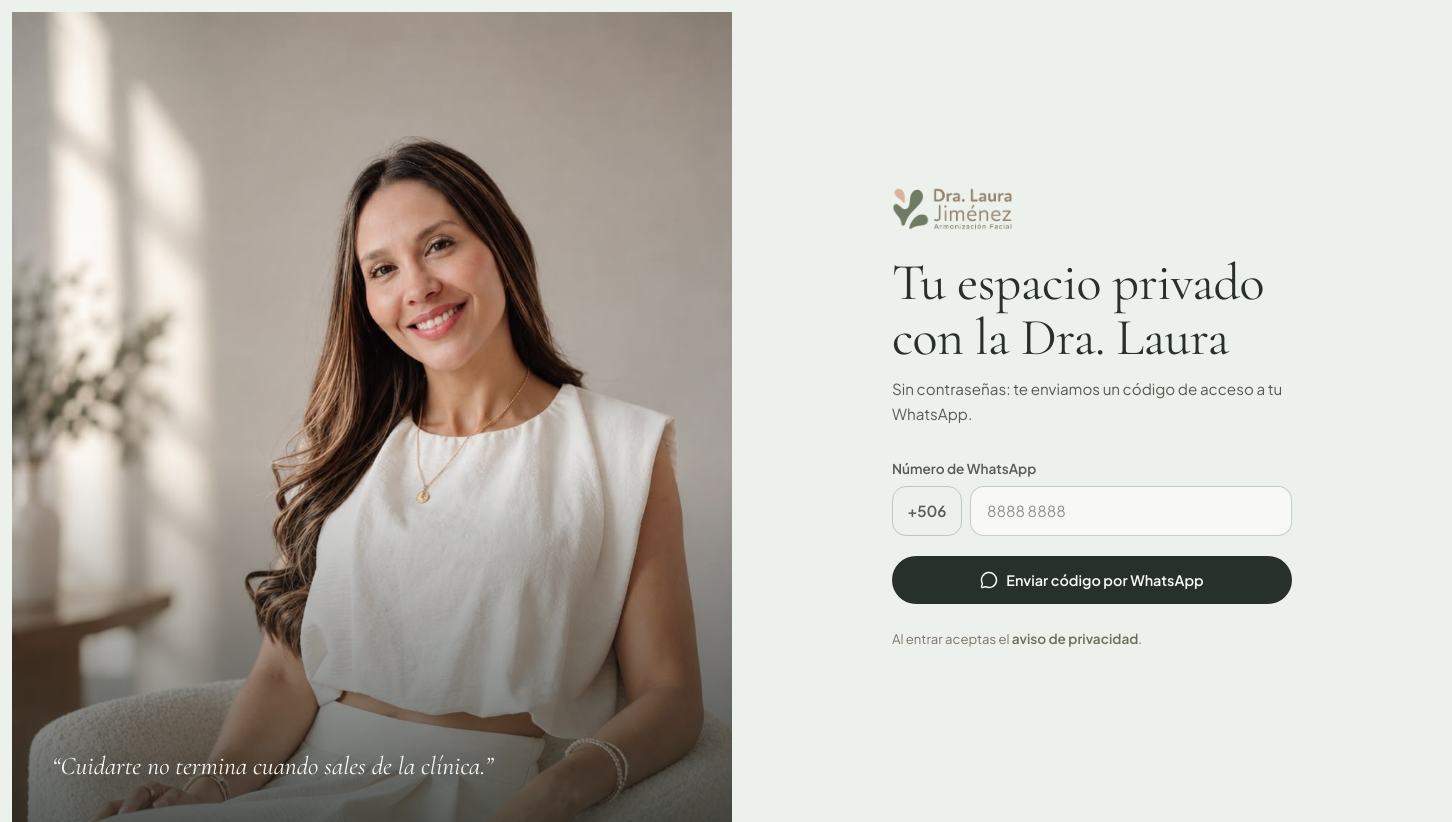
Scenario: <PortalAccess /> (acceso con código de WhatsApp) › solo acepta dígitos y exige los 6
Type "8888 0001" into the field labelled "Número de WhatsApp" at (1131, 511), box [970,486,1292,536]
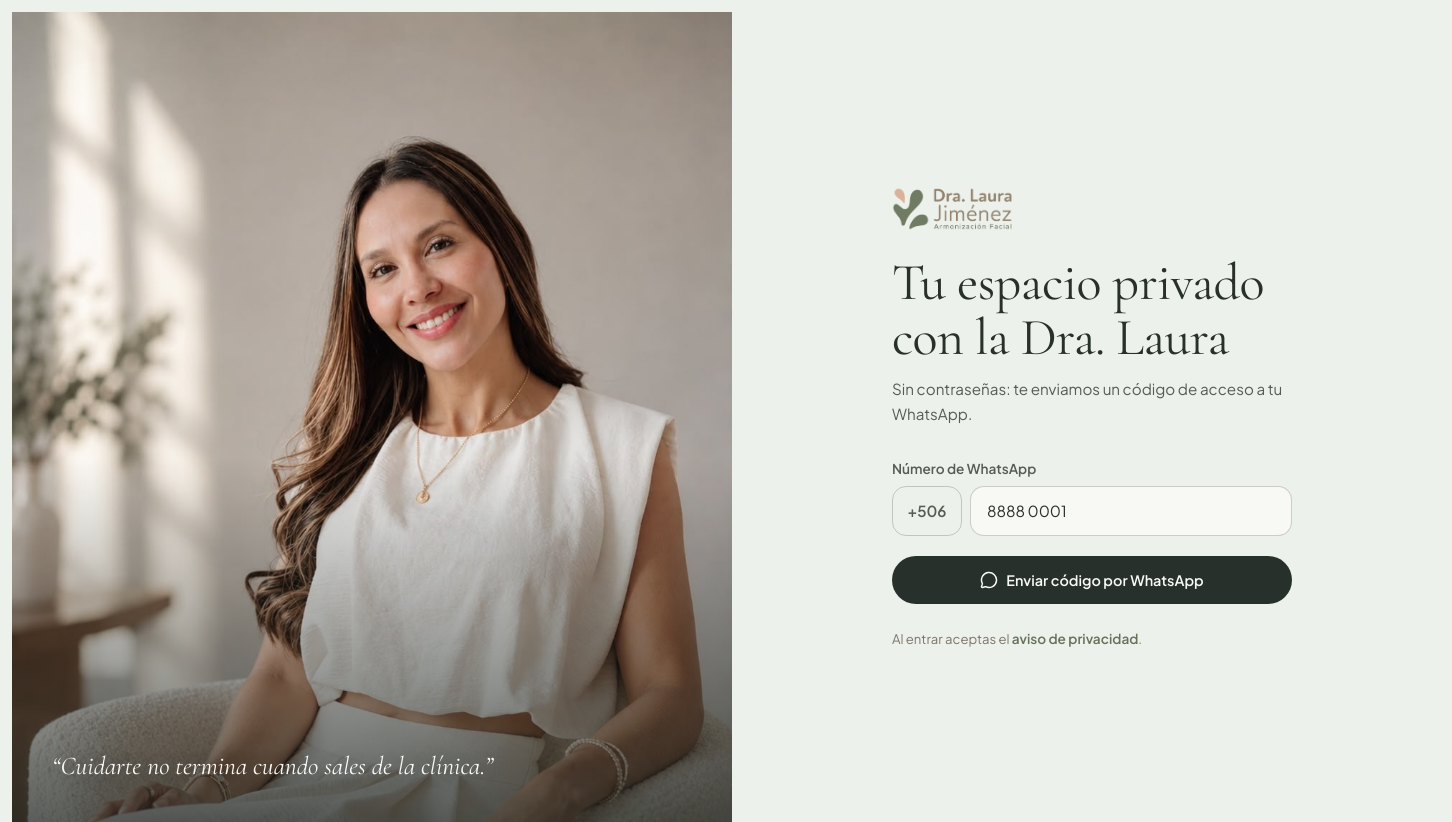
Click the button "Enviar código por WhatsApp" at (1092, 580), box [892,556,1292,604]
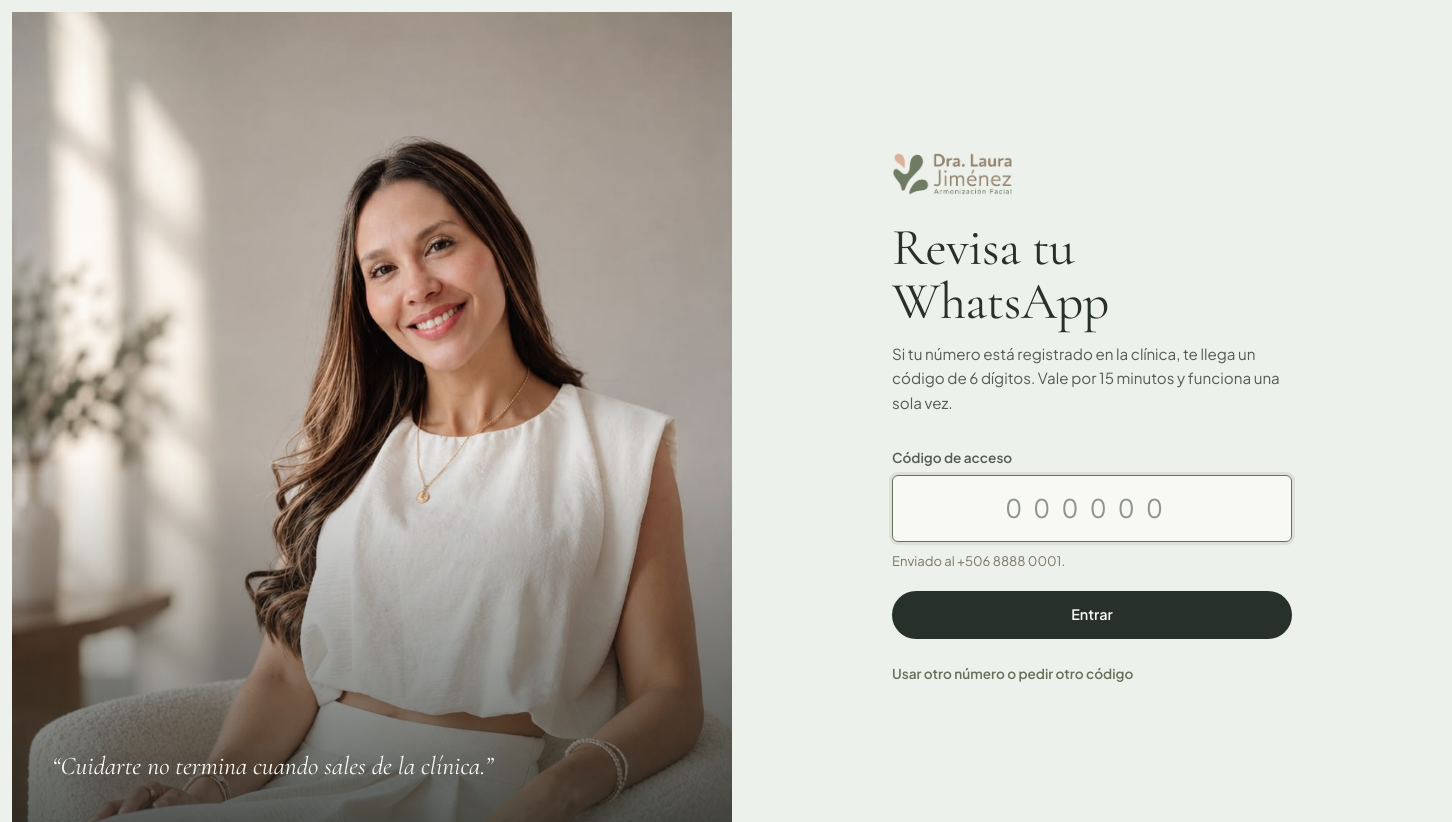
Type "12a3" into the field labelled "Código de acceso" at (1092, 508), box [892,475,1292,542]
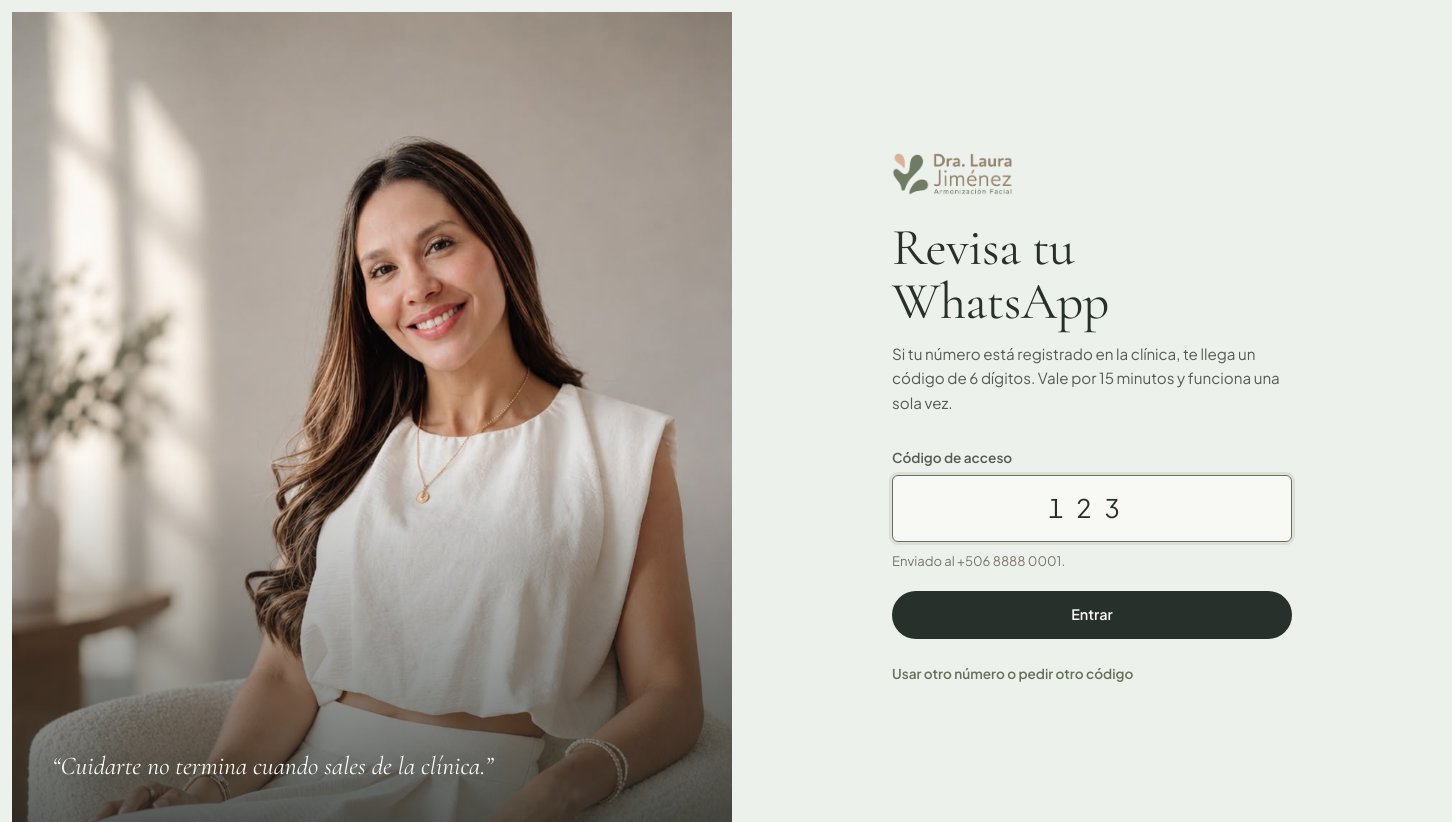
Result: the field labelled "Código de acceso" holds "123" at [892,475,1292,542]
Click the button "Entrar" at (1092, 615), box [892,591,1292,639]
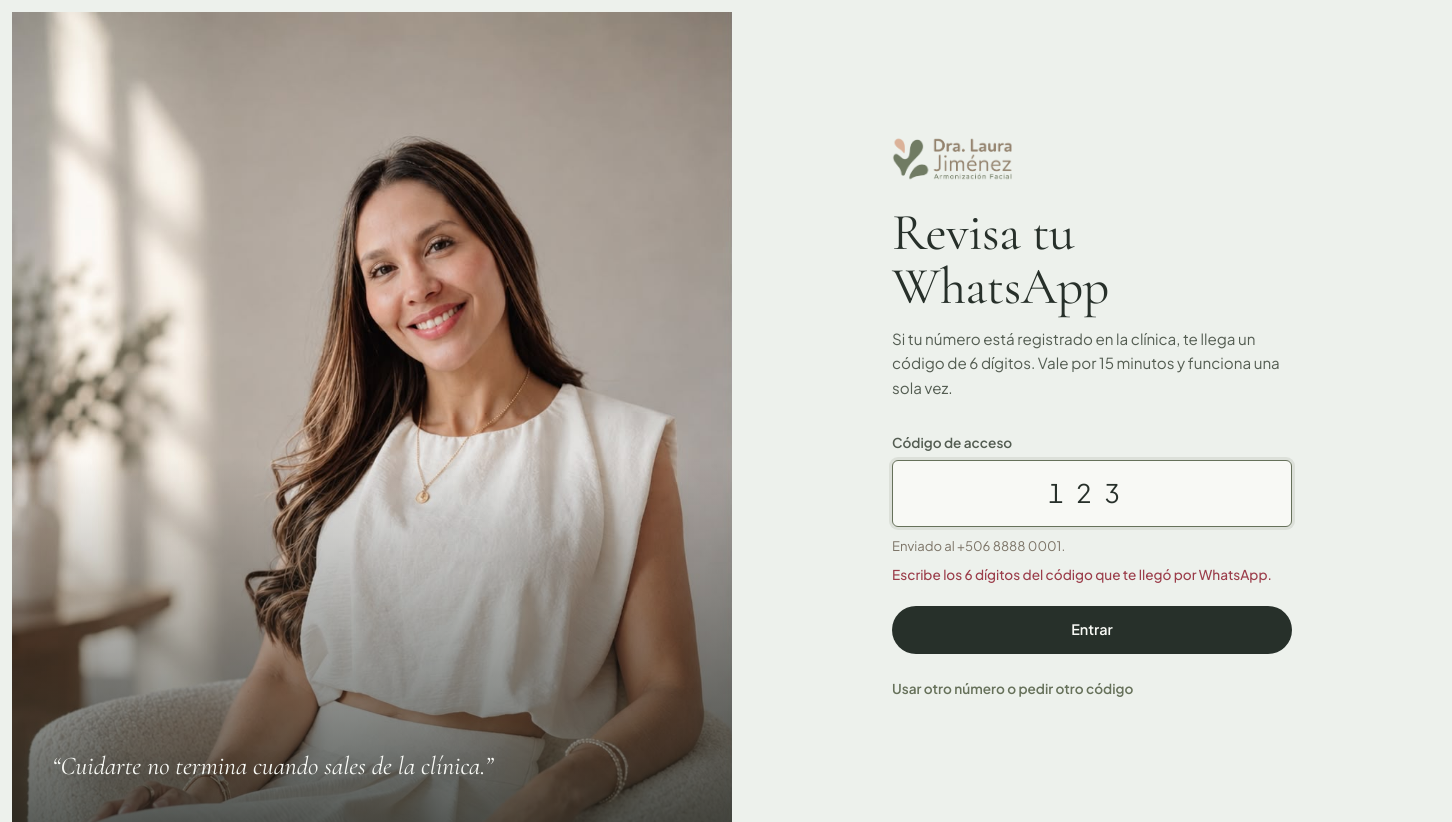
Result: the message "Escribe los 6 dígitos del código que te llegó por WhatsApp." is shown at [892,564,1292,586]
